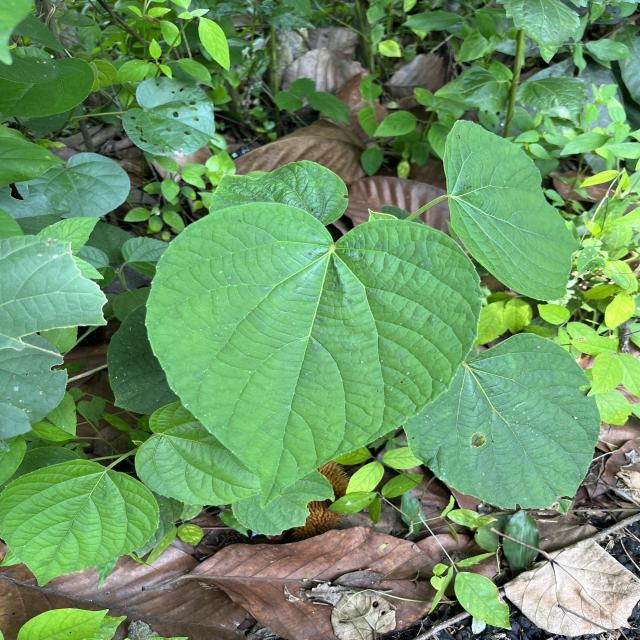Clerodendrum infortunatum: (143, 199, 485, 511), (402, 331, 604, 518), (441, 117, 582, 300), (1, 456, 161, 590)
